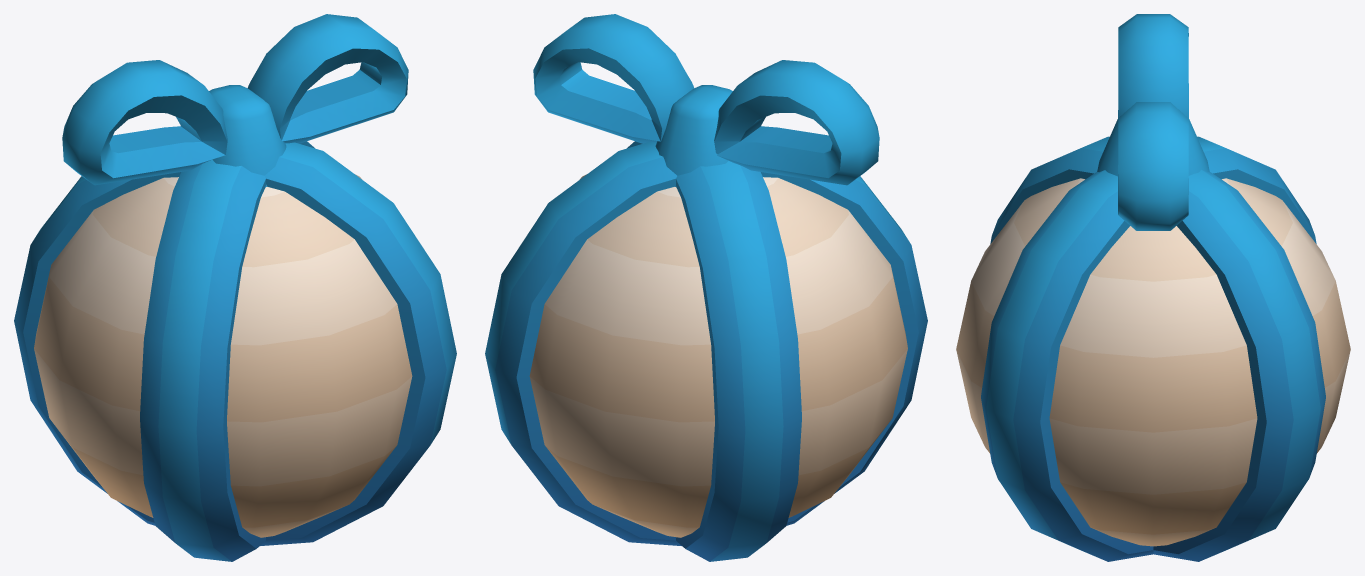
Rendered from present_sphere_A_white.fbx.
3 views of the same model, side by side, from view 1: azimuth 30°, elevation 25°; view 2: azimuth 150°, elevation 25°; view 3: azimuth 270°, elevation 25° (orthographic). The views are drawn at different scales.
Visible parts, largest first — view 1: present_sphere_A_white; view 2: present_sphere_A_white; view 3: present_sphere_A_white.
Boxes of the visible parts, bbox=[...] form: present_sphere_A_white: bbox=[14, 14, 456, 561]; present_sphere_A_white: bbox=[485, 14, 927, 561]; present_sphere_A_white: bbox=[956, 14, 1350, 561].
Size of the model in its own units: 55.76 by 75.01 by 55.76.
